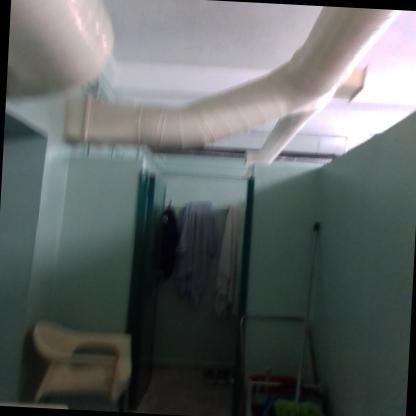open: (117, 152, 262, 402)
